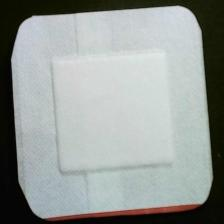Dressing: (12, 4, 215, 223)
Red_T: (36, 200, 207, 224)
